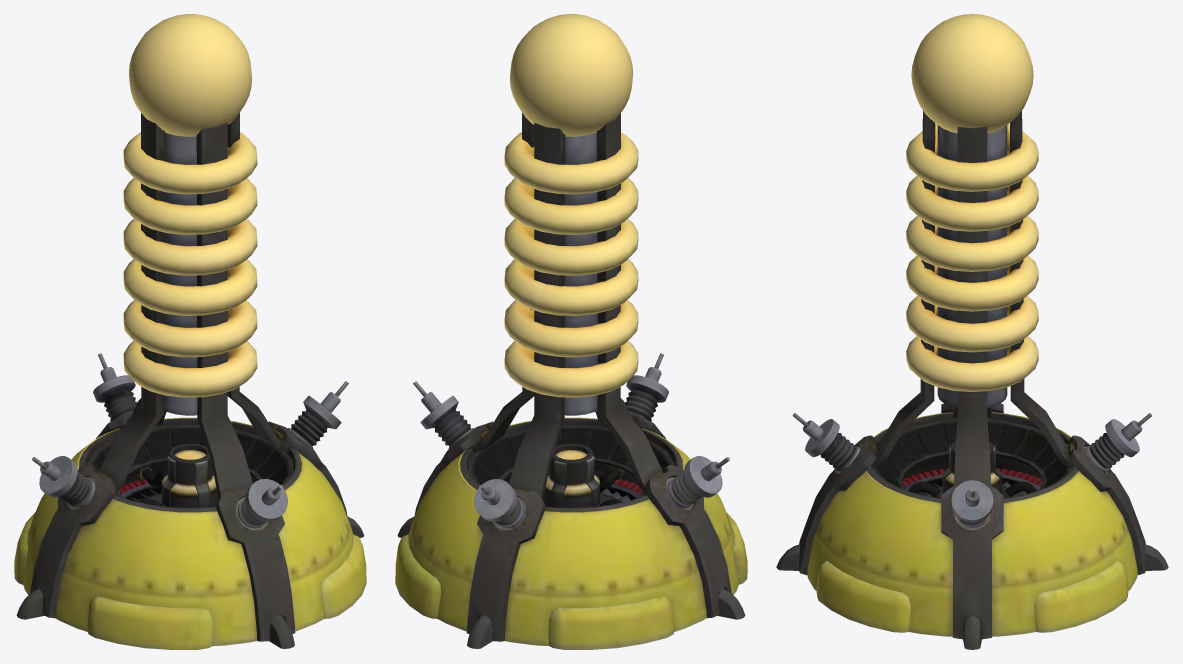
The model's file is SM_Capacitor_05af50.glb.
3 views of the same model, side by side, from view 1: azimuth 30°, elevation 25°; view 2: azimuth 150°, elevation 25°; view 3: azimuth 270°, elevation 25° (orthographic).
Bounding box in the file's own units: 1.37 × 2.11 × 1.37.
Materials: 1 (1 with a texture image).
